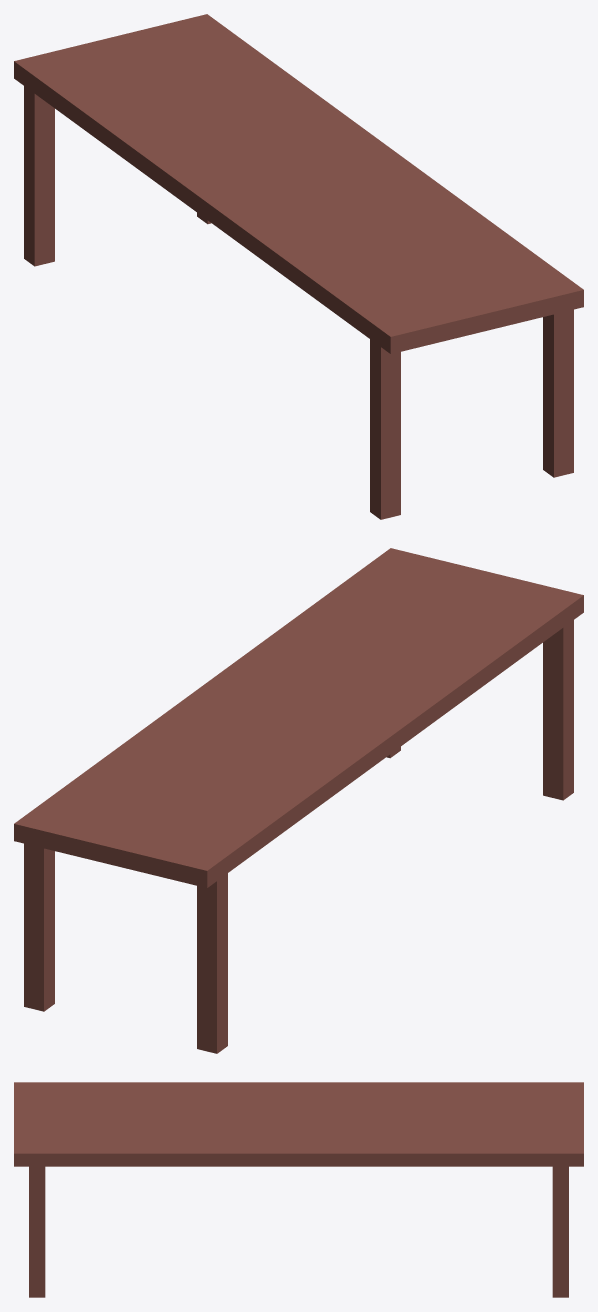
Rendered from tisch_lang.glb.
The picture shows the model from 3 angles, top to bottom: view 1: azimuth 30°, elevation 25°; view 2: azimuth 150°, elevation 25°; view 3: azimuth 270°, elevation 25°; orthographic projection. The views are drawn at different scales.
Parts seen in each view (by area): view 1: tabel; view 2: tabel; view 3: tabel.
Boxes of the visible parts, bbox=[...] form: tabel: bbox=[14, 14, 583, 519]; tabel: bbox=[14, 548, 583, 1053]; tabel: bbox=[14, 1082, 583, 1297].
Bounding box in the file's own units: 0.8884 × 0.8357 × 3.
